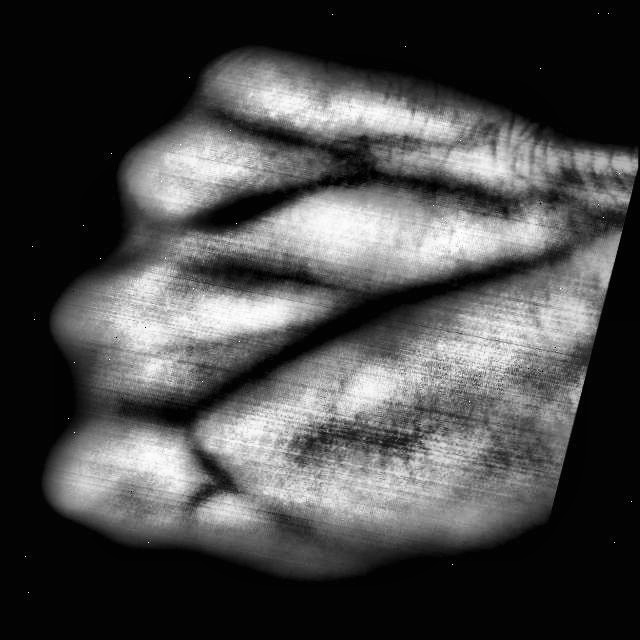Vein: (280, 222, 581, 362)
